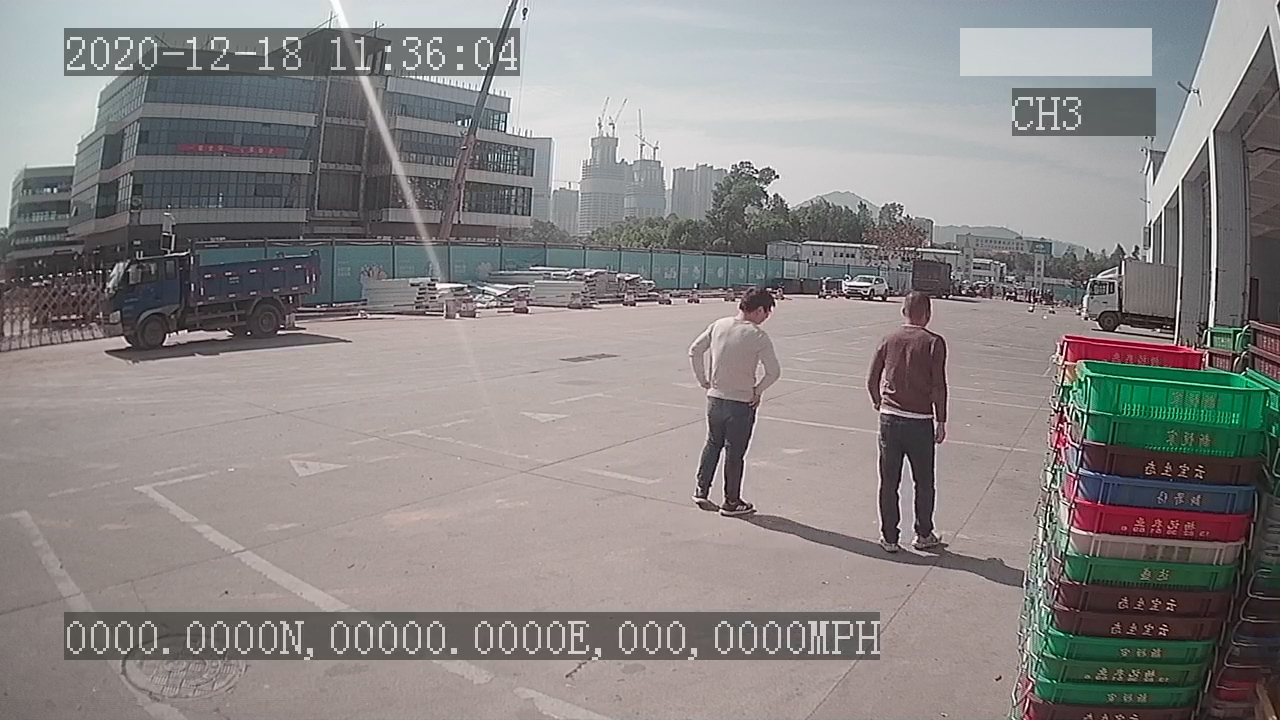person: (686, 286, 783, 519), (867, 290, 952, 555)
